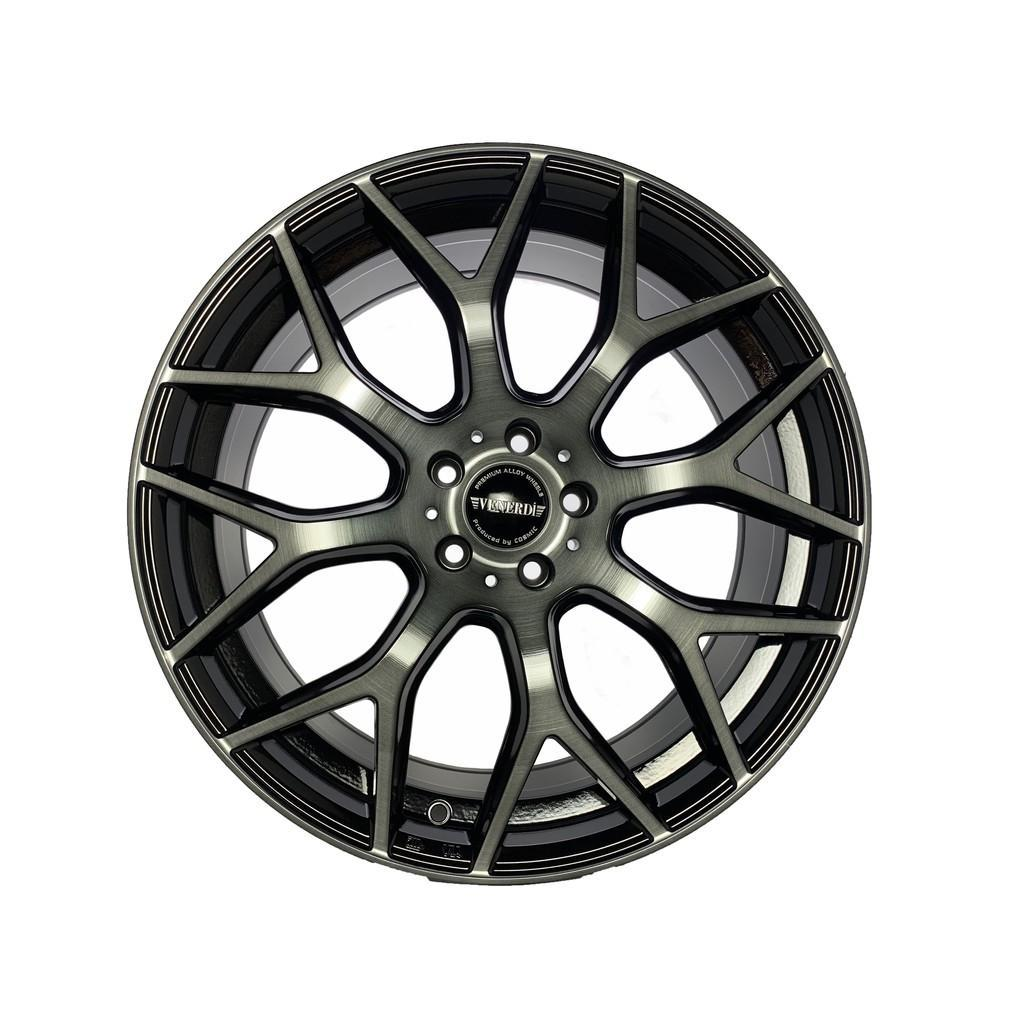hole: (503, 414, 544, 458), (424, 446, 462, 490), (557, 480, 598, 520), (518, 554, 554, 588), (438, 537, 468, 571)
